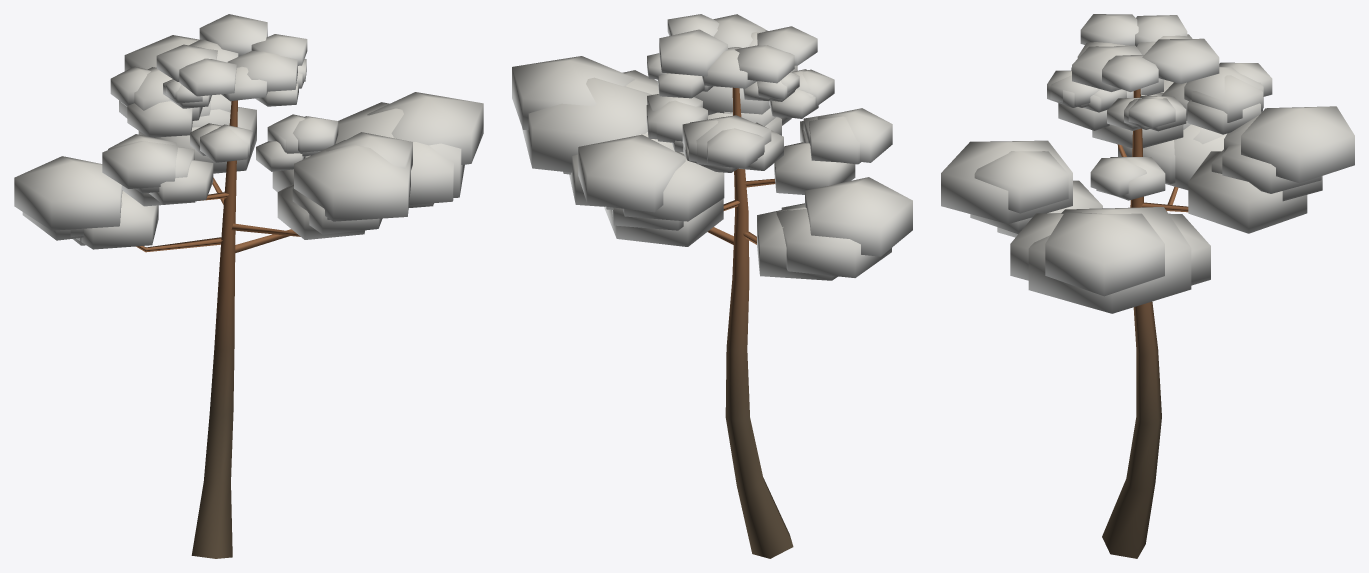
The picture shows the model from 3 angles, left to right: view 1: azimuth 30°, elevation 25°; view 2: azimuth 150°, elevation 25°; view 3: azimuth 270°, elevation 25°; orthographic projection. The views are drawn at different scales.
Parts seen in each view (by area): view 1: crown, trunk; view 2: crown, trunk; view 3: crown, trunk.
Part boxes in pixels (<box>): crown: <box>14,14,483,249</box>; trunk: <box>136,100,300,558</box>; crown: <box>512,14,912,280</box>; trunk: <box>708,87,793,558</box>; crown: <box>941,14,1354,313</box>; trunk: <box>1102,89,1188,558</box>.
Size of the model in its own units: 15.99 by 18.8 by 13.13.
